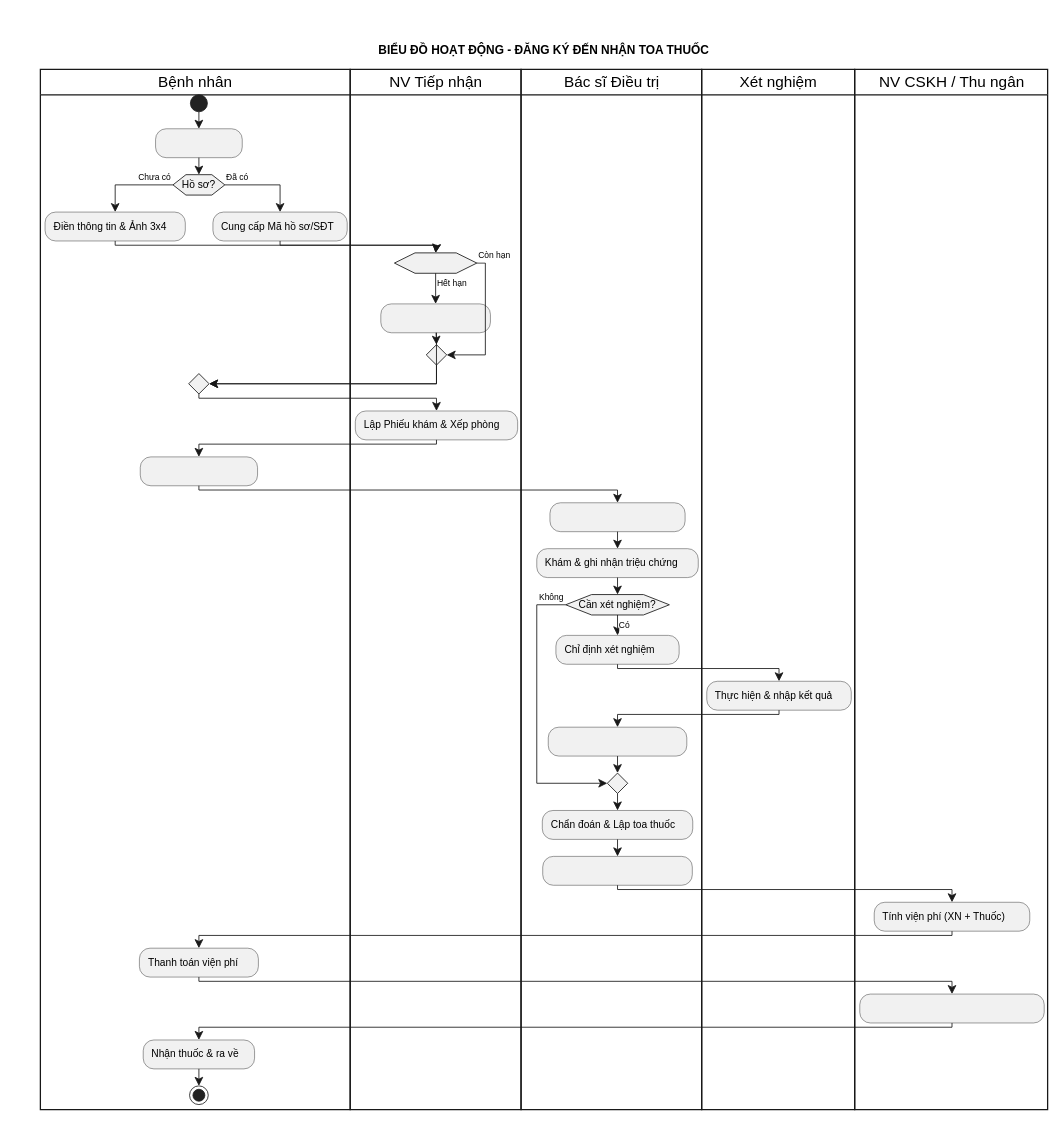
Image size: 1063x1125. Some labels were removed from this diagram. The shapes that lost their labels are listed below. From the top down, each one's centre as x and y in pixels, then its label:
[198,143]: Đăng ký khám
[435,262]: Lệ phí năm?
[435,318]: Thu lệ phí gia hạn
[198,471]: Chờ tại phòng khám
[617,517]: Tra cứu lịch sử bệnh án
[617,741]: Xem kết quả xét nghiệm
[617,870]: Lưu đợt khám lên hệ thống
[951,1008]: Hoàn tất đợt điều trị & Phát thuốc
